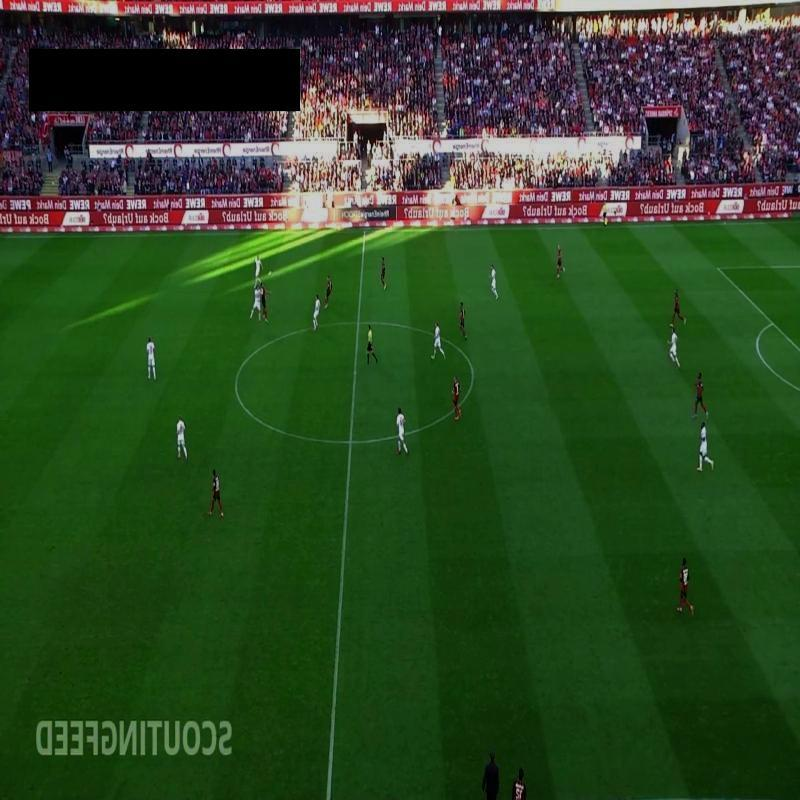10: (764, 314, 778, 328)
13: (356, 226, 372, 238)
14: (350, 316, 367, 330)
15: (343, 434, 358, 450)
9: (710, 260, 724, 274)
c: (466, 362, 480, 380), (229, 372, 243, 386)
